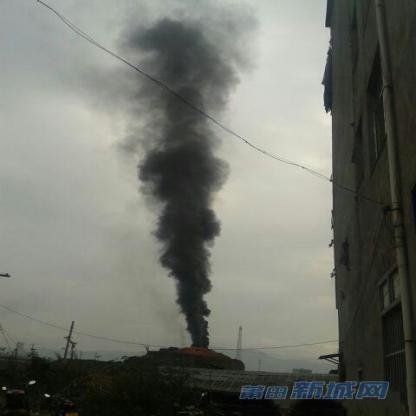smoke: (163, 184, 211, 312), (138, 73, 228, 125), (138, 129, 224, 182), (141, 23, 224, 71), (187, 314, 210, 345)
